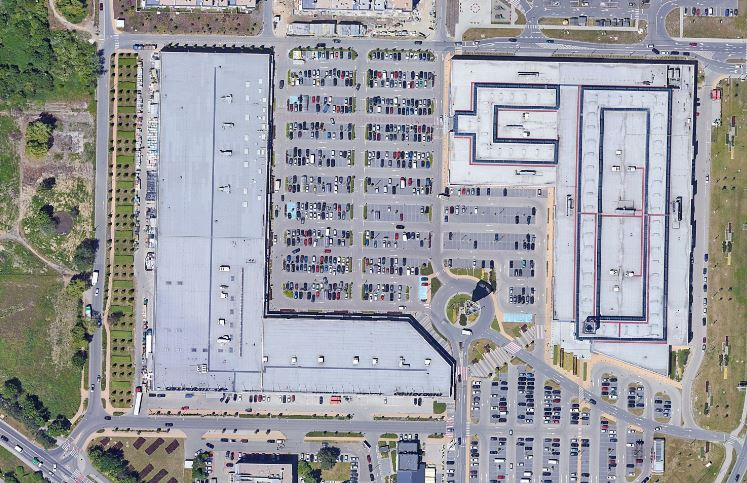shopping_center: (151, 45, 462, 413), (439, 49, 696, 382)
